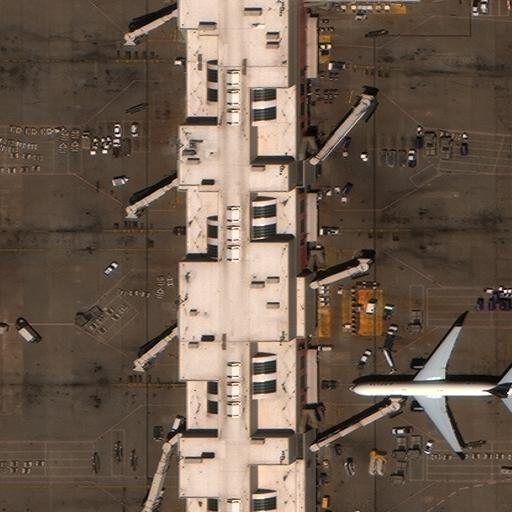Large Civil Transport: (345, 322, 511, 453)
